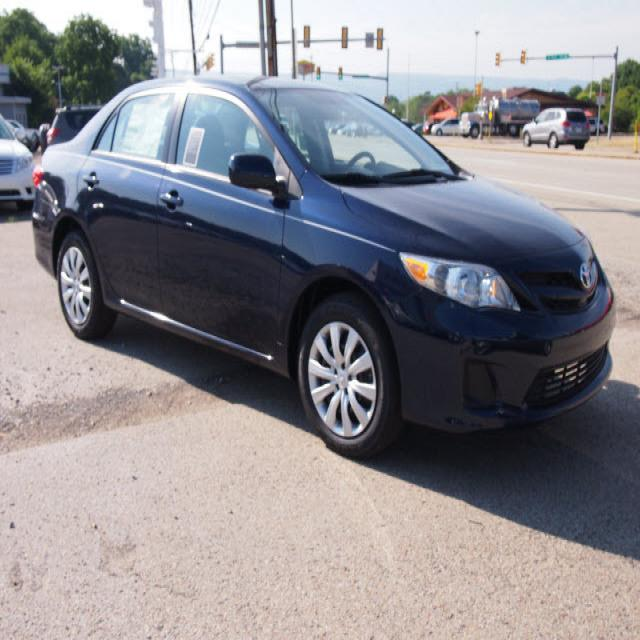car: (33, 72, 616, 462)
